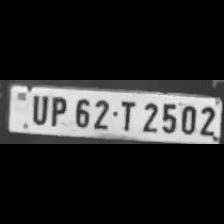0: (178, 102, 196, 134)
2: (90, 96, 112, 130), (196, 102, 218, 136), (138, 100, 158, 132)
5: (158, 99, 176, 133)
6: (69, 94, 89, 128)
P: (46, 92, 68, 125)
T: (114, 97, 136, 131)
U: (26, 92, 48, 124)
